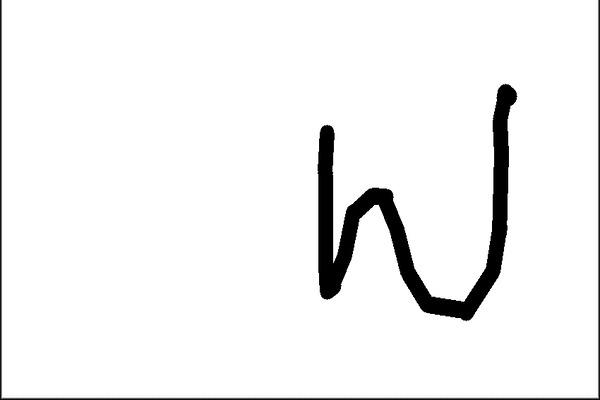w: (267, 69, 523, 359)
